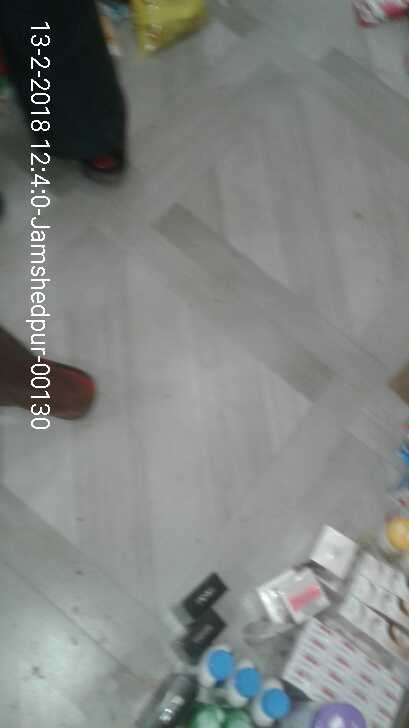reject: (112, 166, 252, 299)
